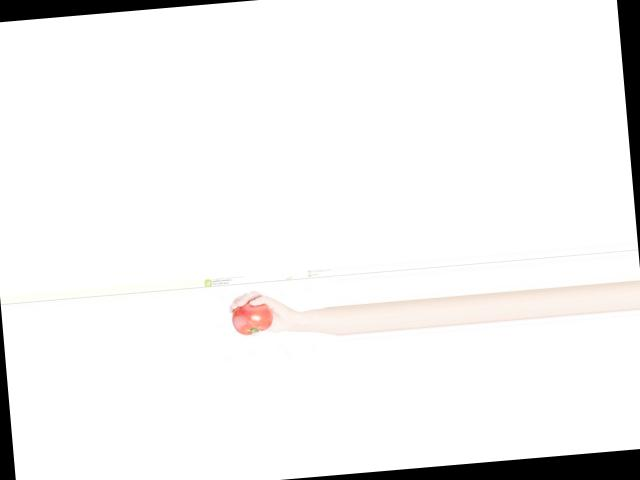tomato: (231, 299, 275, 336)
